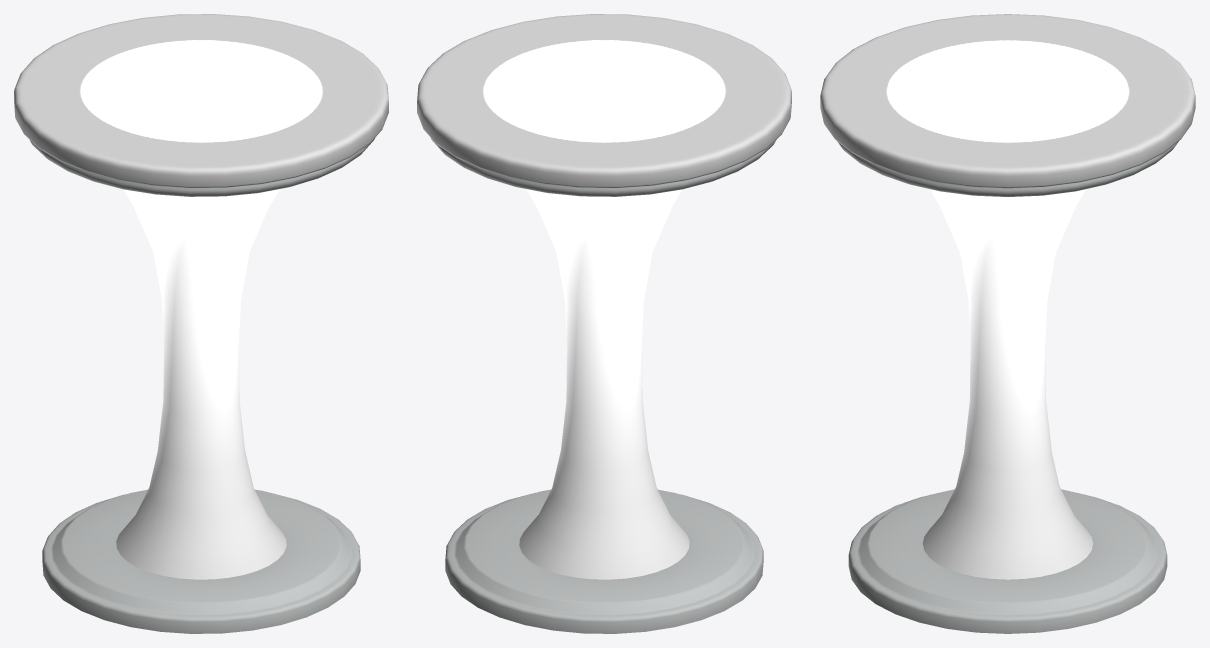
File: BarTable08.FBX
3 renders of one model, left to right at view 1: azimuth 30°, elevation 25°; view 2: azimuth 150°, elevation 25°; view 3: azimuth 270°, elevation 25°, orthographic.
Visible parts, largest first — view 1: BarTable08; view 2: BarTable08; view 3: BarTable08.
Part boxes in pixels (left/top/right/bottom): BarTable08: left=14, top=14, right=388, bottom=633; BarTable08: left=417, top=14, right=791, bottom=633; BarTable08: left=820, top=14, right=1195, bottom=633.
Size of what is drawn, in the model's own units: 0.7878 by 1.1 by 0.7878.
